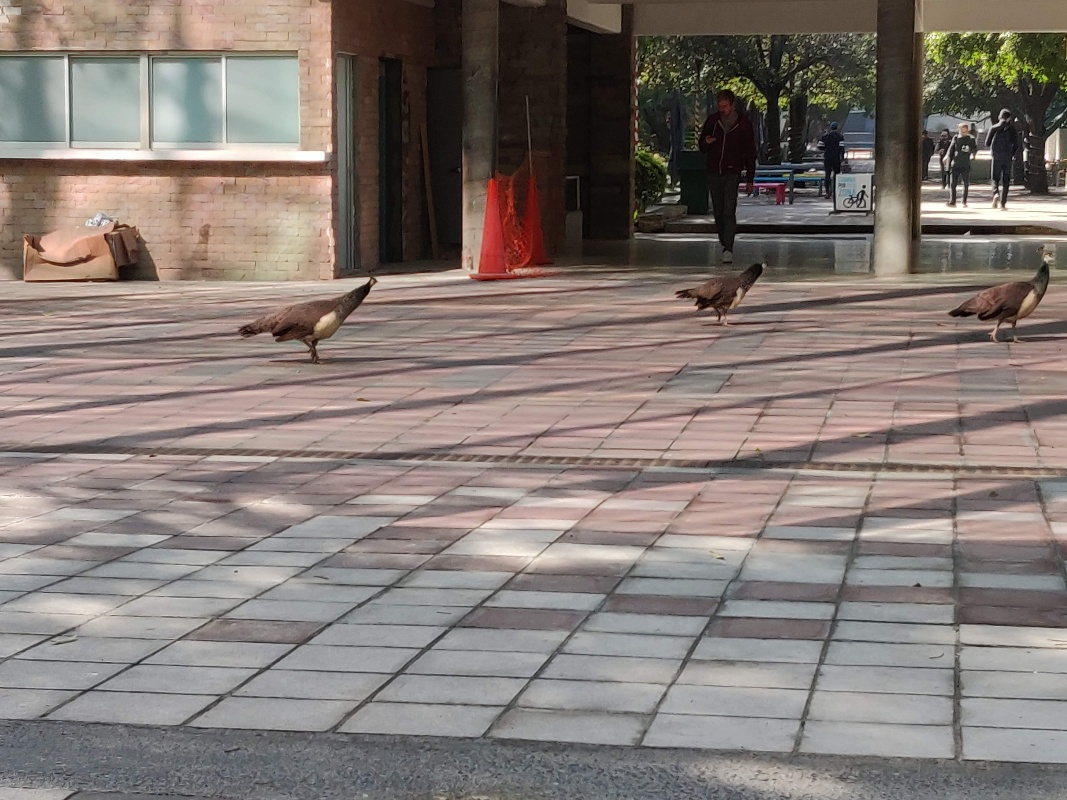pavoreal: (252, 268, 386, 364), (936, 250, 1057, 343), (683, 250, 776, 320)
